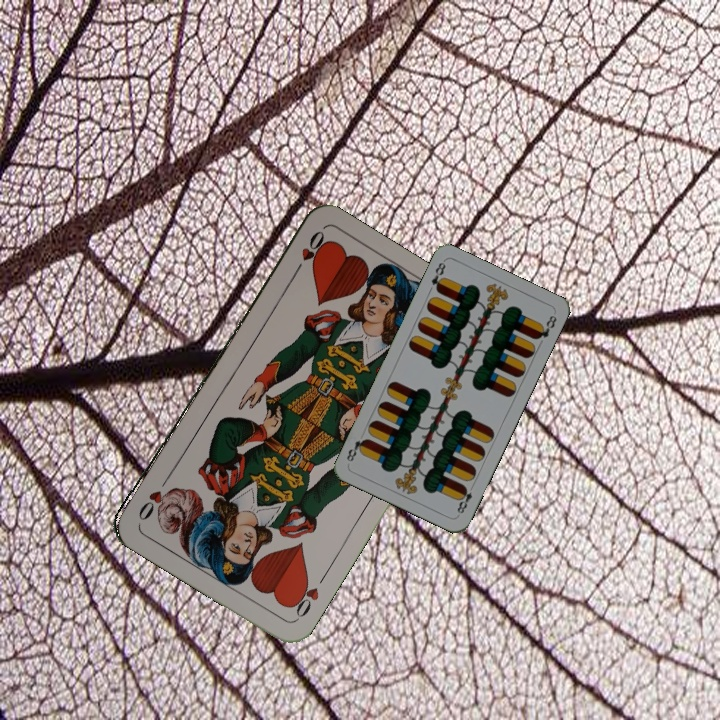E8: (453, 481, 477, 518), (427, 258, 448, 295)
HO: (286, 569, 330, 622), (289, 226, 328, 279)
